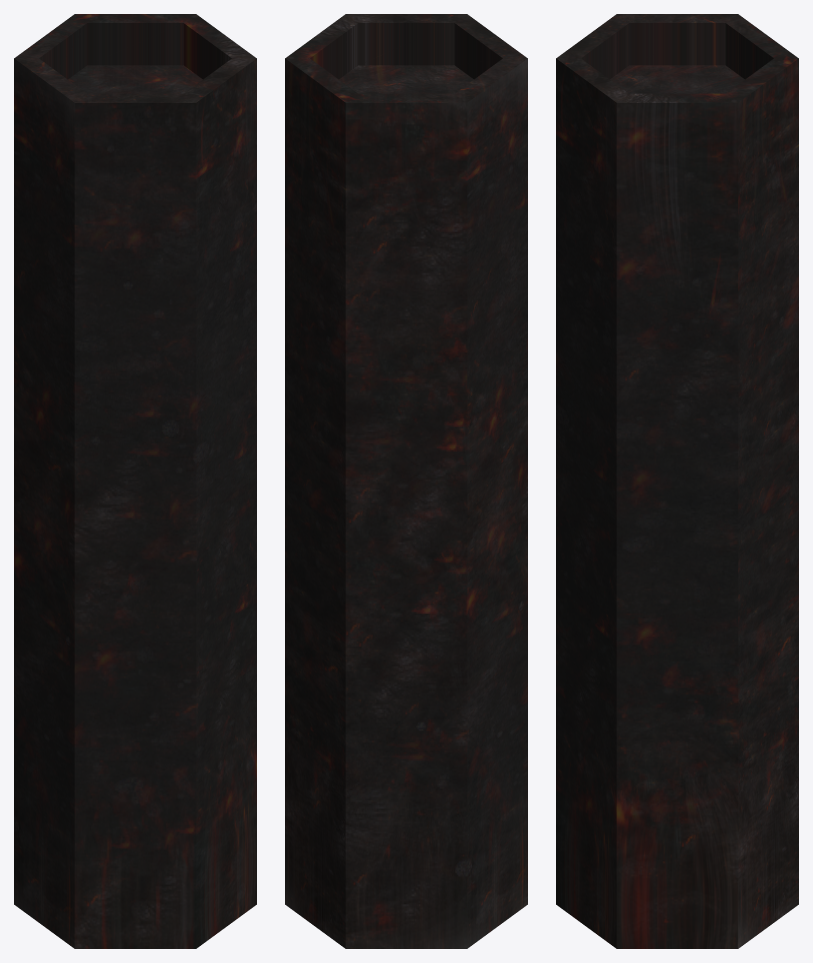
The model's file is log 1.glb.
3 views of the same model, side by side, from view 1: azimuth 30°, elevation 25°; view 2: azimuth 150°, elevation 25°; view 3: azimuth 270°, elevation 25° (orthographic).
Parts seen in each view (by area): view 1: Cylinder; view 2: Cylinder; view 3: Cylinder.
Boxes of the visible parts, <box> form: Cylinder: <box>14,14,256,948</box>; Cylinder: <box>285,14,527,948</box>; Cylinder: <box>556,14,798,948</box>.
Size of the model in its own units: 0.4503 by 2 by 0.52.
1 material, 1 textured.
